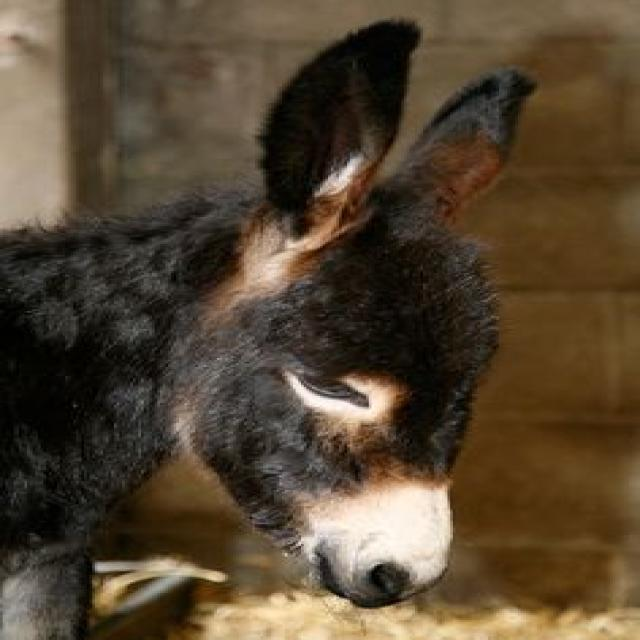Donkey: (0, 18, 538, 640)
